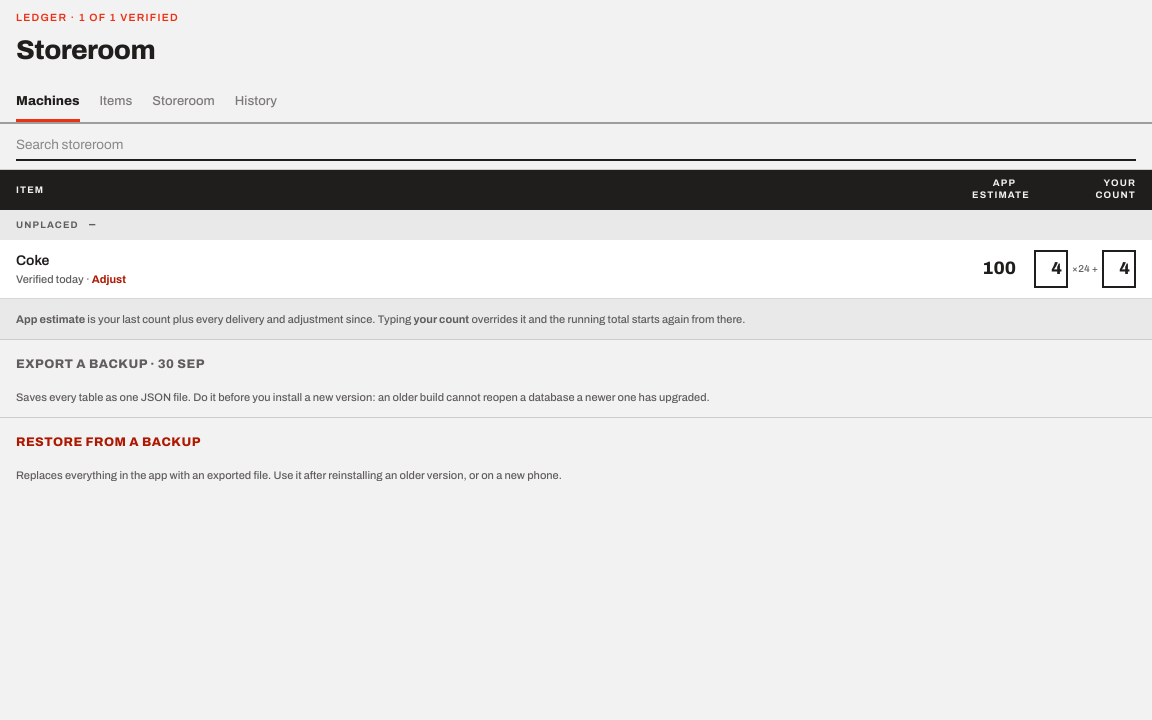
StoreroomScreen › recording an adjustment › raises the item's on-hand figure when a delivery is recorded from the storeroom screen
Check: the text named "Coke on hand" reads "100", box [982, 258, 1016, 278]
Click the button with aria-label "Adjust Coke".
click(109, 279)  # box [92, 271, 126, 288]
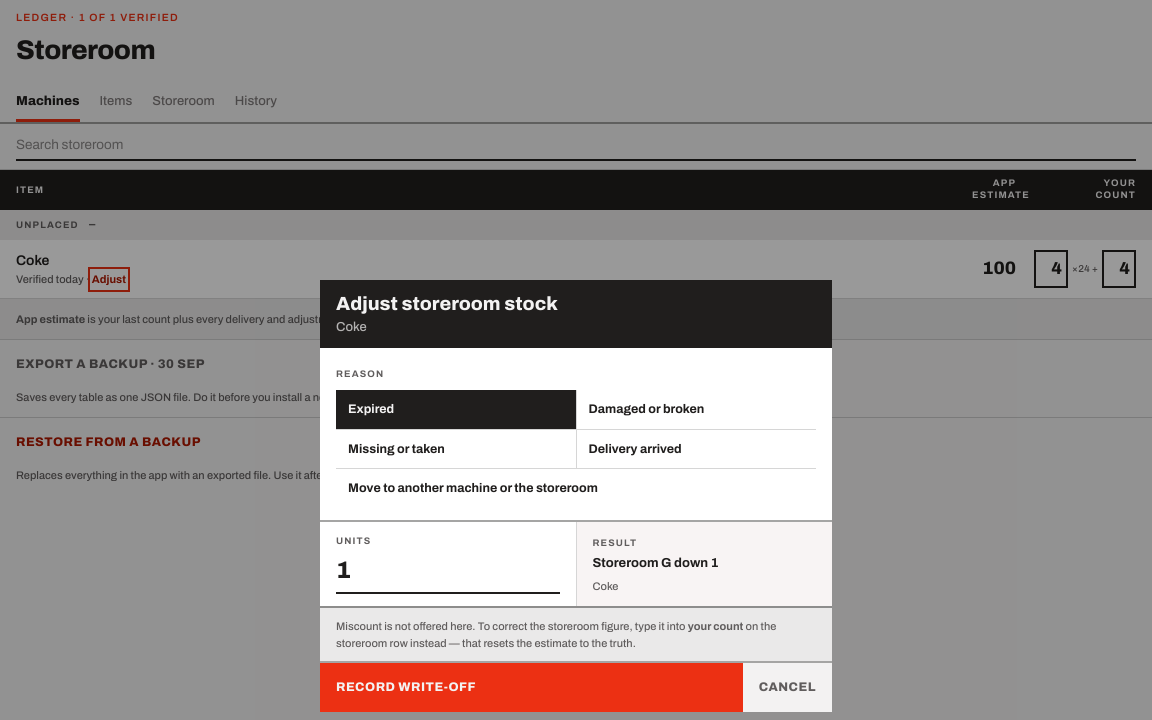
Click the button "Delivery arrived".
click(696, 449)  # box [576, 430, 816, 468]
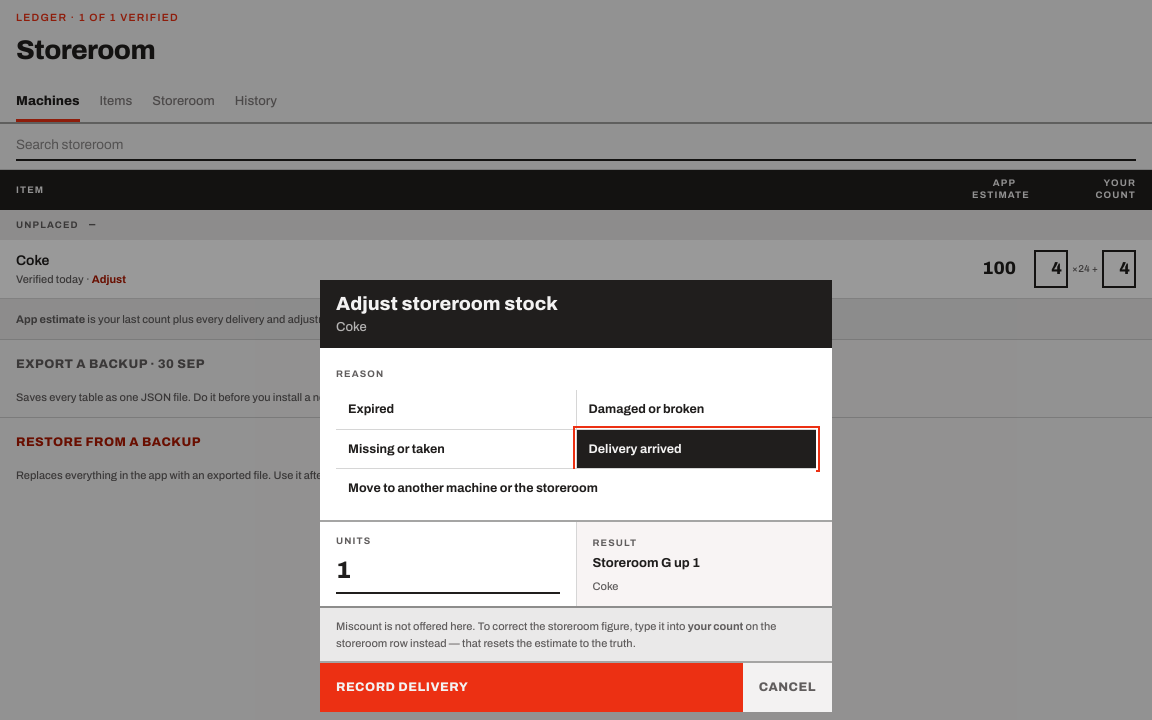
Replace the text in the number field labelled "Units" with "24" at (448,573), box [336, 552, 560, 594]
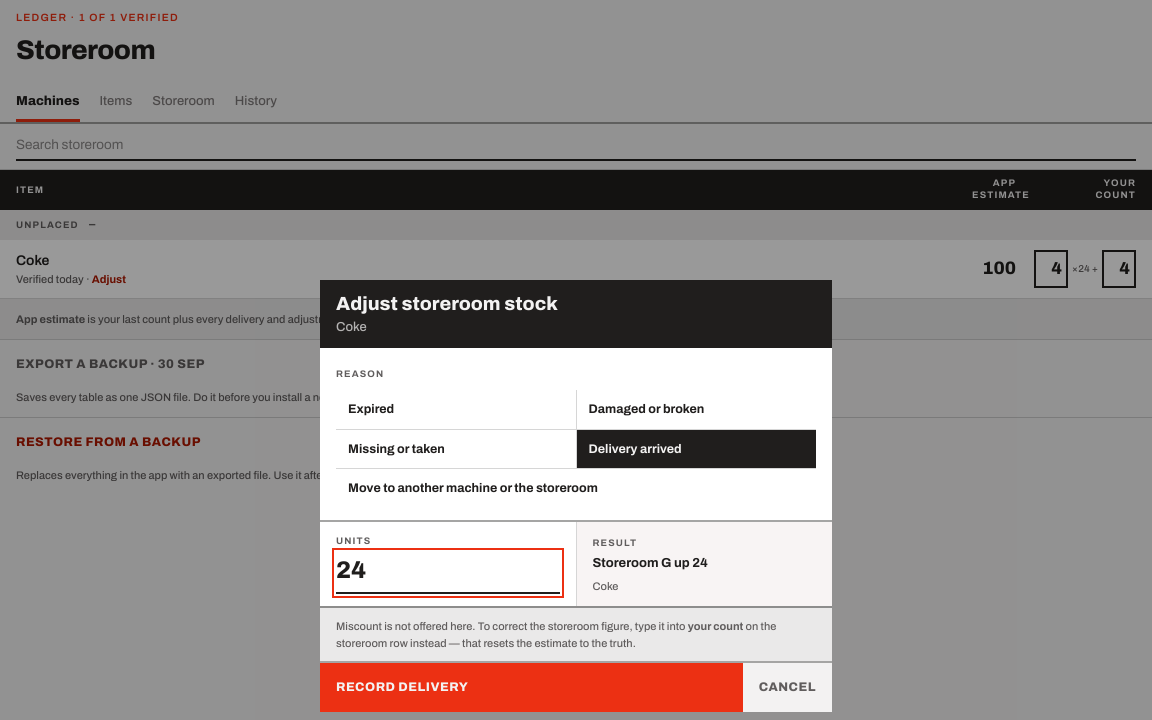
Click the button "Record delivery".
click(402, 687)  # box [320, 663, 743, 712]
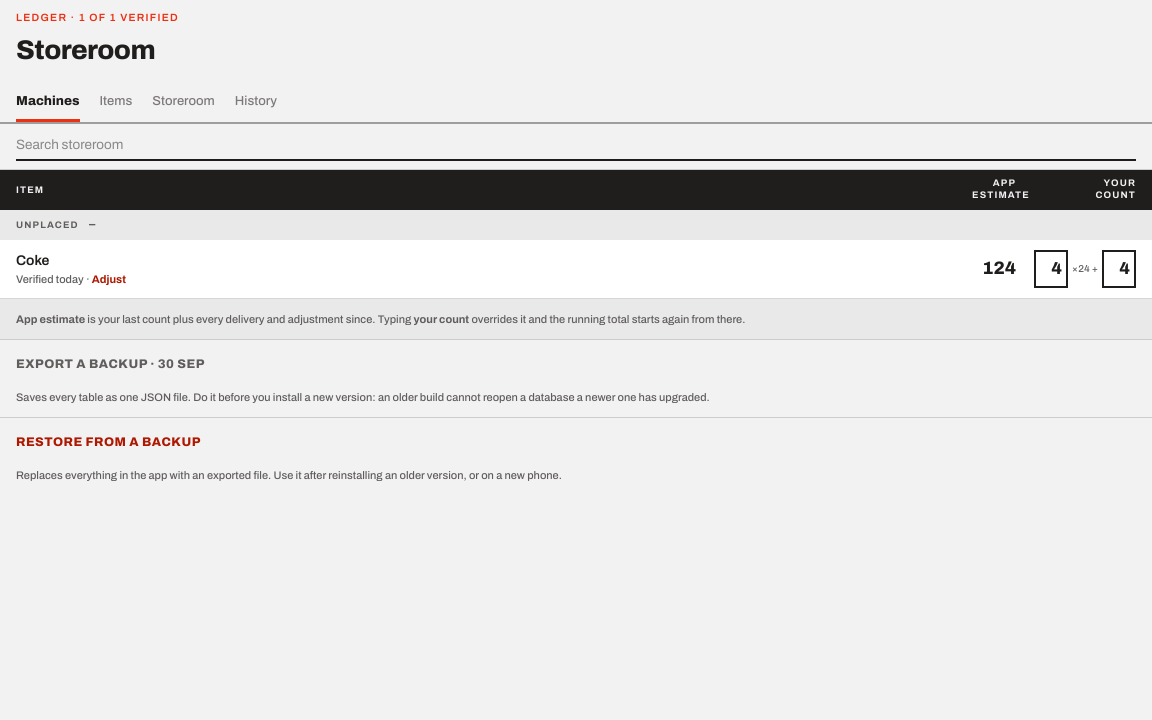
Check: the text named "Coke on hand" reads "124", box [982, 258, 1016, 278]
